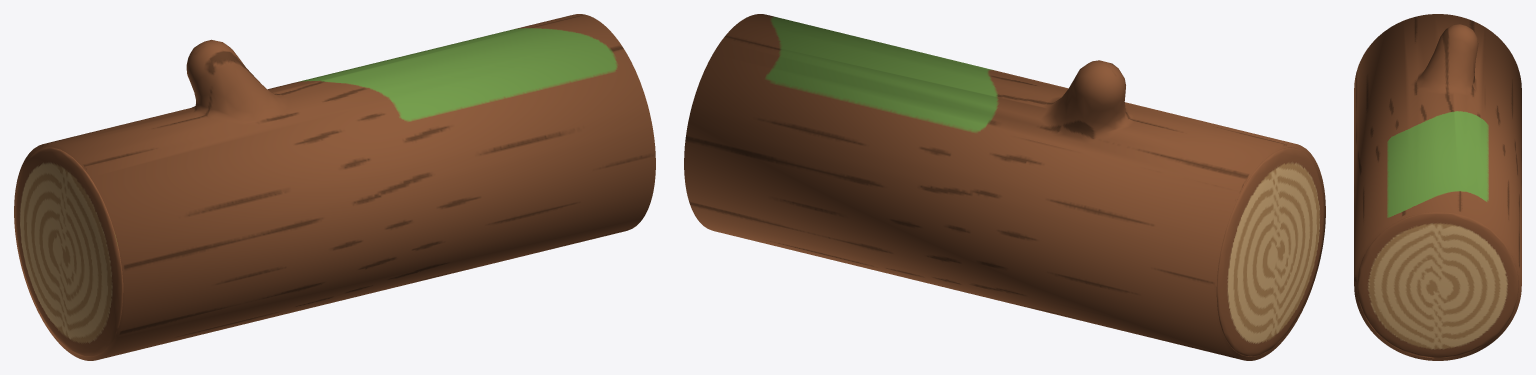
File: Log.fbx
3 renders of one model, left to right at view 1: azimuth 30°, elevation 25°; view 2: azimuth 150°, elevation 25°; view 3: azimuth 270°, elevation 25°, orthographic. The views are drawn at different scales.
Visible parts, largest first — view 1: Log; view 2: Log; view 3: Log.
Part boxes in pixels (x1,y1,x2,y2): Log: [14, 14, 655, 360]; Log: [684, 14, 1325, 360]; Log: [1354, 14, 1521, 360].
Bounding box in the file's own units: 2.26 × 1.04 × 0.7999.
Materials: 1 (1 with a texture image).
